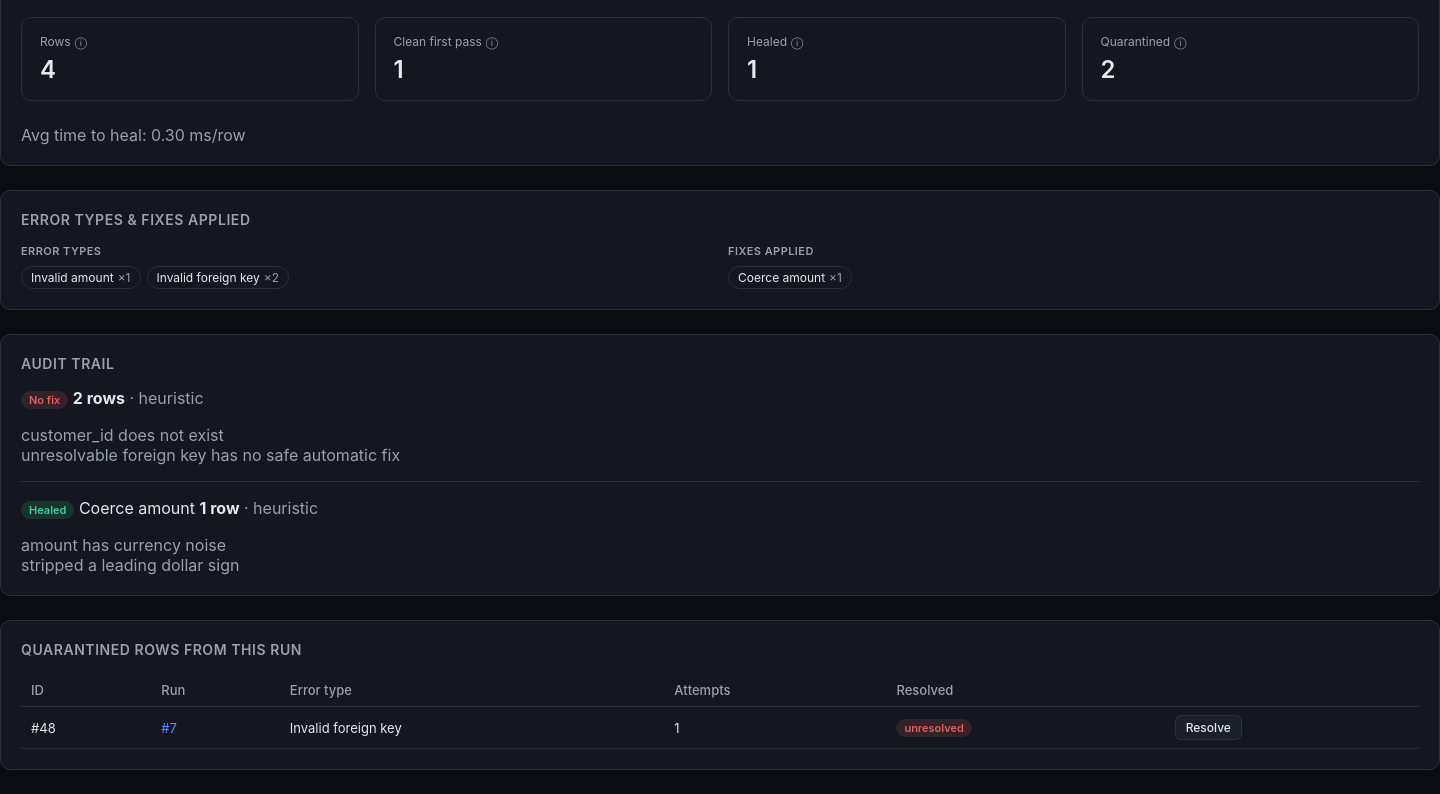
Test case: RunDetail › lists quarantined rows from this run and can resolve them
(page scrolled)
Click the button "Resolve" at (1208,728), box left=1175, top=715, right=1242, bottom=740
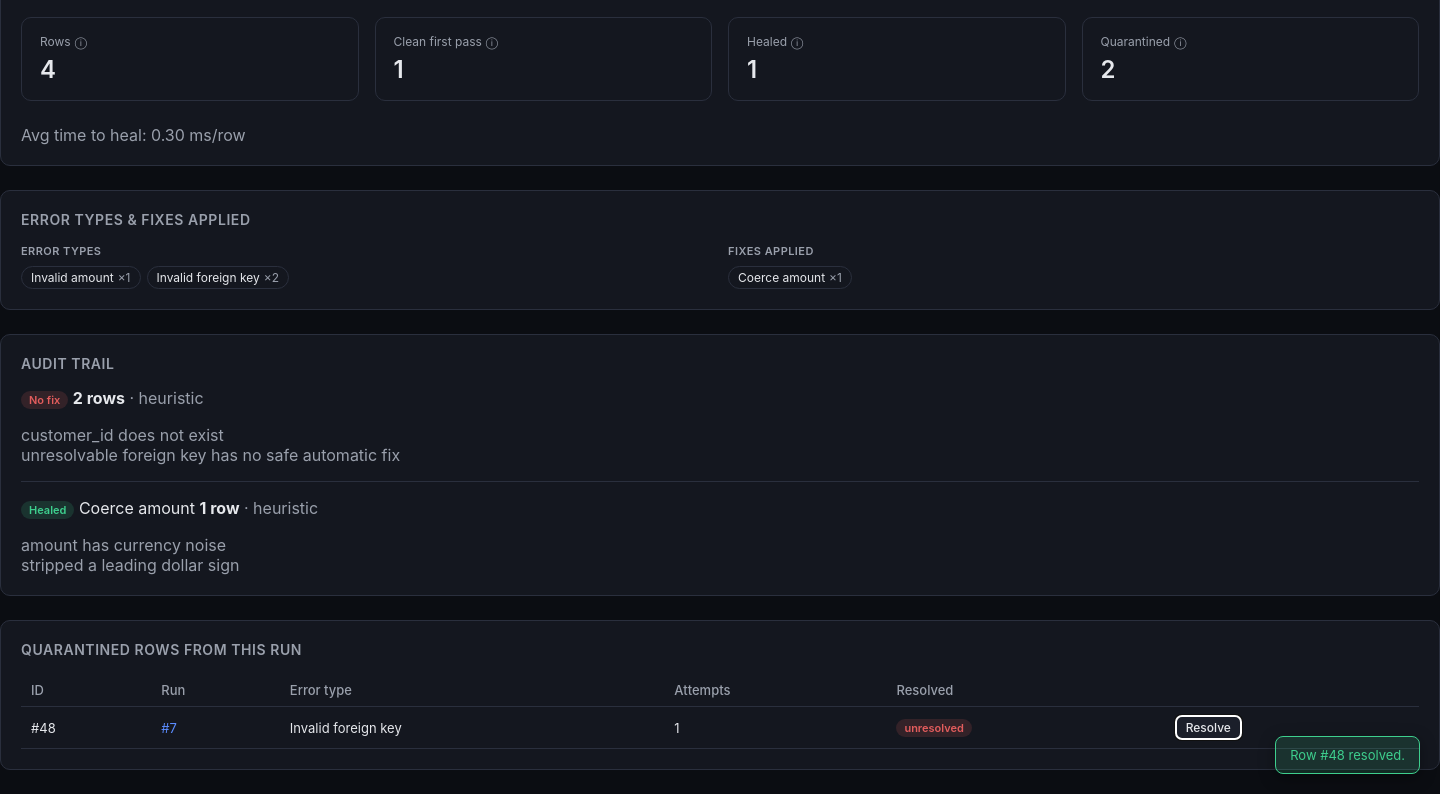
Result: the text "Row #48 resolved." is shown at left=1275, top=736, right=1420, bottom=774
